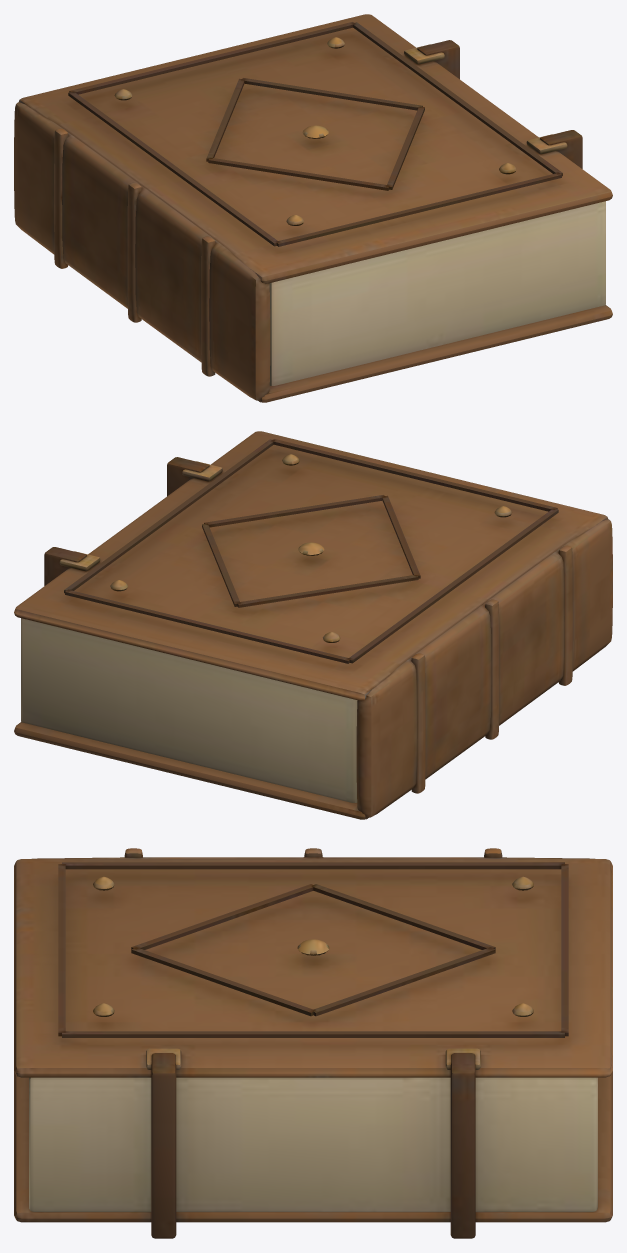
Rendered from galen_simples.glb.
The picture shows the model from 3 angles, top to bottom: view 1: azimuth 30°, elevation 25°; view 2: azimuth 150°, elevation 25°; view 3: azimuth 270°, elevation 25°; orthographic projection. The views are drawn at different scales.
Visible parts, largest first — view 1: galen_simples; view 2: galen_simples; view 3: galen_simples.
Boxes of the visible parts, left/top/right/bottom form: galen_simples: left=14, top=14, right=612, bottom=402; galen_simples: left=14, top=431, right=612, bottom=819; galen_simples: left=14, top=848, right=612, bottom=1238.
Size of the model in its own units: 0.219 by 0.0814 by 0.24.
Materials: 1 (1 with a texture image).
